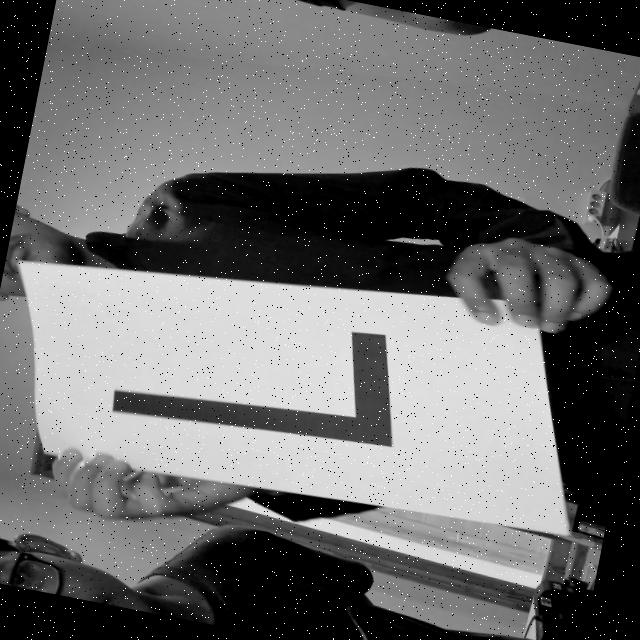l: (74, 270, 441, 486)
